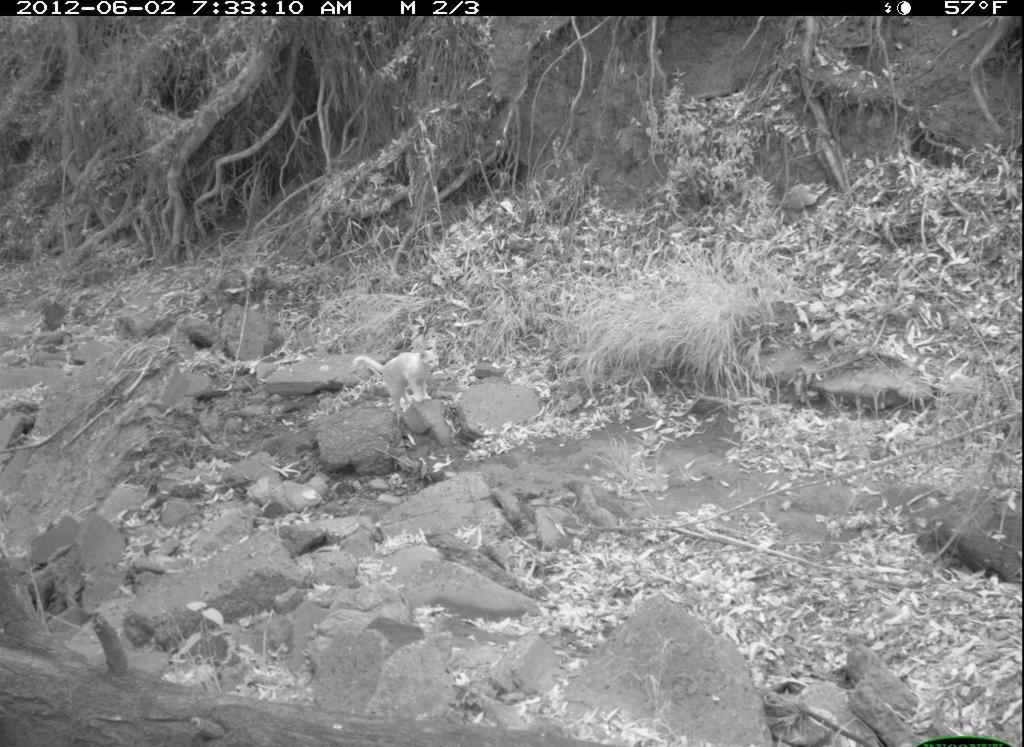cat: (355, 340, 442, 419)
